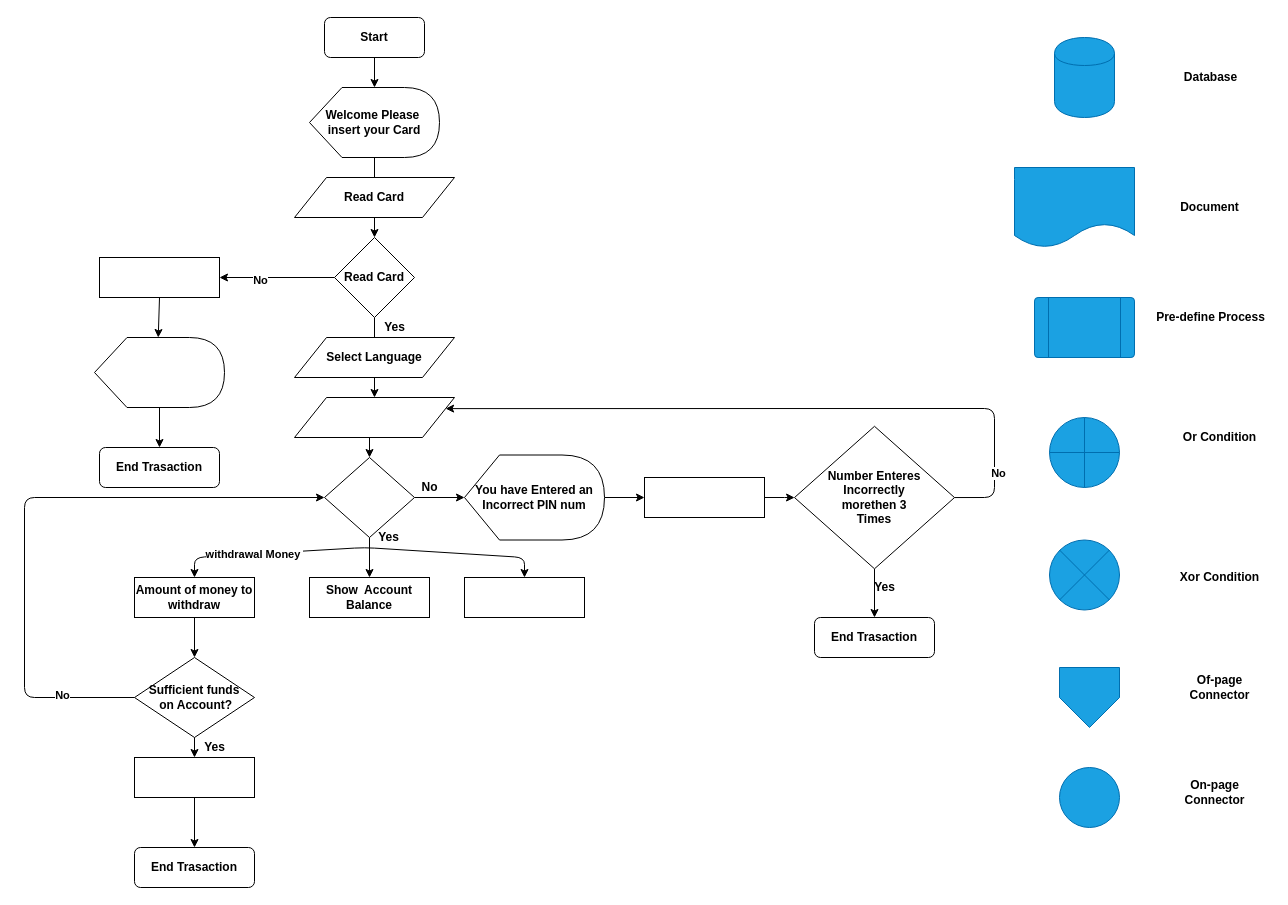
This 1288x905 diagram has some shape labels left out. The box of each missing label's shape, as (x1, y1, x2, y2) in pixels:
Enter PIN Number: (294, 396, 454, 438)
Error Reading Card: (98, 256, 220, 298)
Exit: (464, 576, 584, 618)
Increment Counter: (644, 476, 764, 518)
is the PIN Correct?: (324, 456, 414, 538)
Release Money: (134, 756, 254, 798)
There has been an Error: (94, 336, 224, 408)
